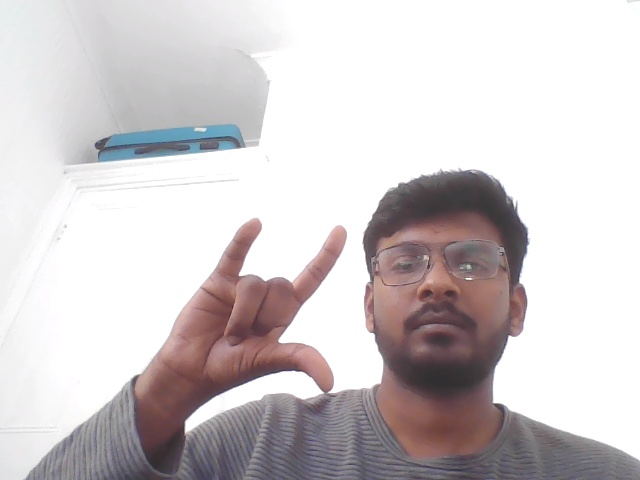ILoveYou: (134, 185, 362, 480)
